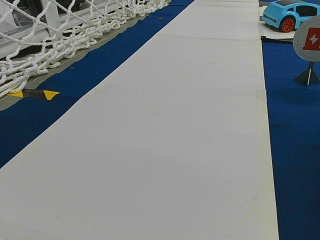battery: (294, 13, 319, 60)
car: (263, 2, 319, 31)
